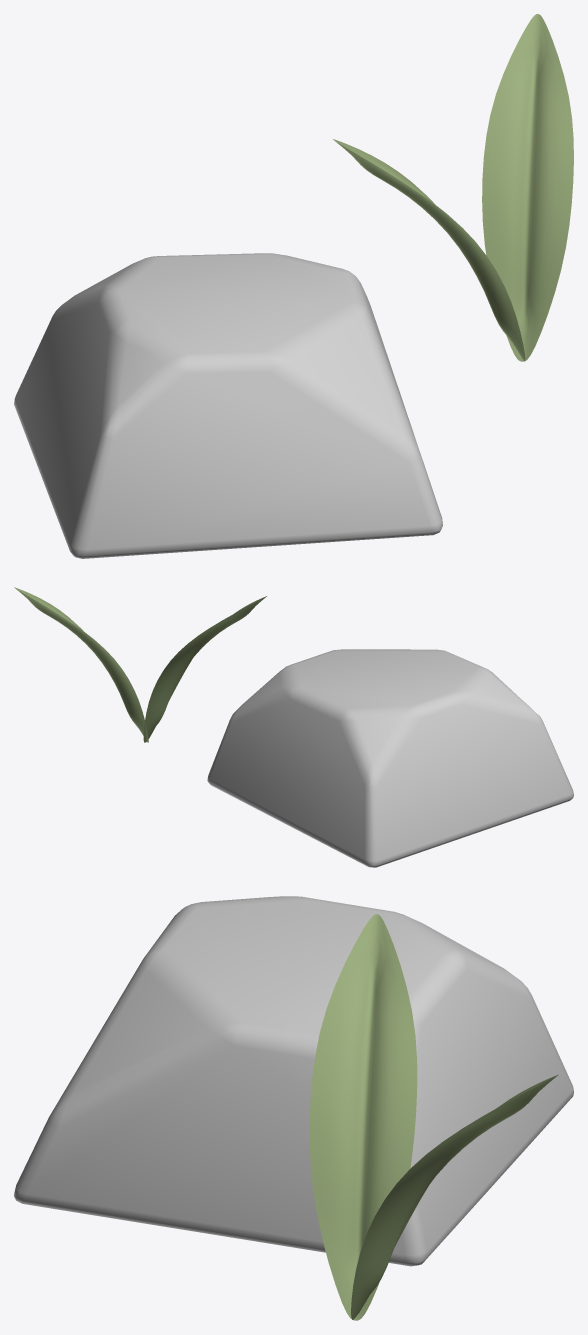
Rendered from other.glb.
The picture shows the model from 3 angles, top to bottom: view 1: azimuth 30°, elevation 25°; view 2: azimuth 150°, elevation 25°; view 3: azimuth 270°, elevation 25°; orthographic projection. The views are drawn at different scales.
Parts seen in each view (by area): view 1: Stone, Grass; view 2: Stone, Grass; view 3: Stone, Grass.
Part boxes in pixels (x1,y1,x2,y2): Stone: (14,253,442,558); Grass: (333,14,573,361); Stone: (207,649,573,867); Grass: (14,587,266,742); Stone: (14,896,573,1266); Grass: (309,914,558,1320).
Size of the model in its own units: 0.5105 by 0.2095 by 0.3349.
